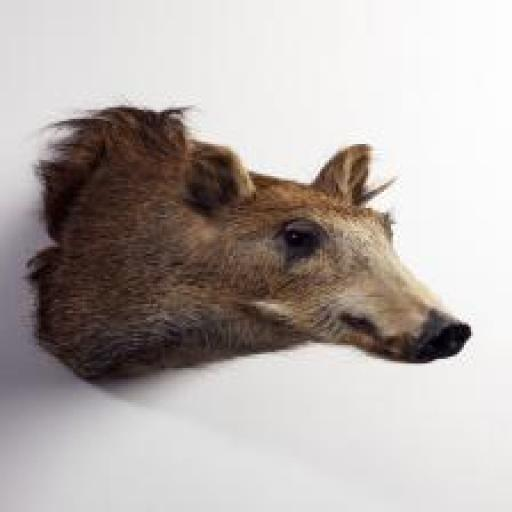Pig: (23, 105, 472, 386)
